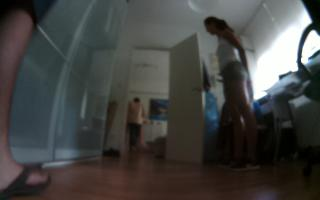person: (1, 1, 62, 198), (201, 15, 267, 175), (126, 88, 149, 157)
